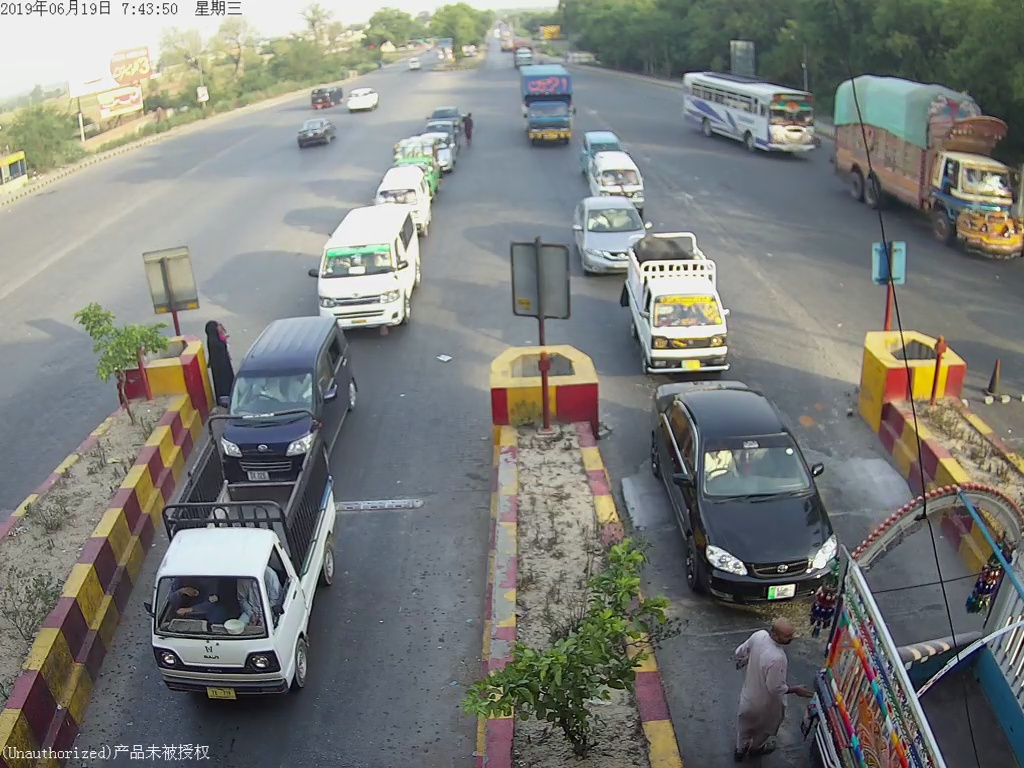Cat-1: (155, 464, 348, 705), (658, 407, 834, 600), (226, 316, 356, 451), (628, 241, 739, 373)
Cat-2: (311, 208, 423, 327)
